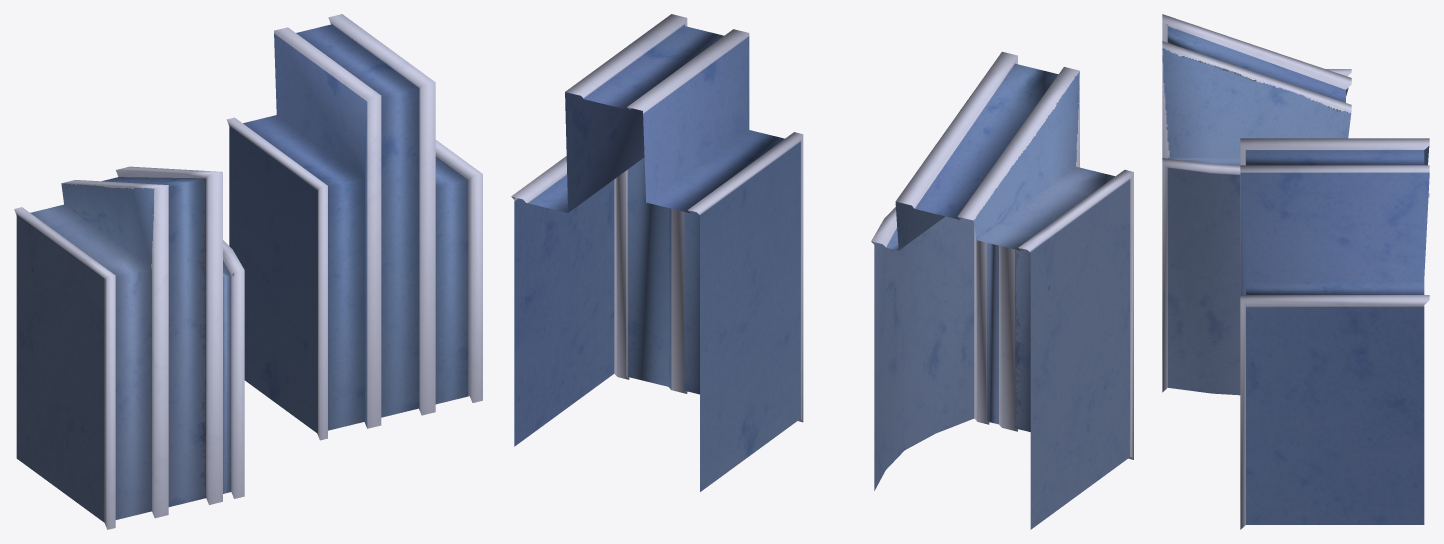
3 renders of one model, left to right at view 1: azimuth 30°, elevation 25°; view 2: azimuth 150°, elevation 25°; view 3: azimuth 270°, elevation 25°, orthographic. The views are drawn at different scales.
Parts seen in each view (by area): view 1: Box001; view 2: Box001; view 3: Box001.
Boxes of the visible parts, x1=… form: Box001: x1=14, y1=14, x2=482, y2=529; Box001: x1=511, y1=14, x2=1133, y2=529; Box001: x1=1162, y1=14, x2=1429, y2=529.
Size of the model in its own units: 228 by 174 by 126.
Materials: 1 (1 with a texture image).
